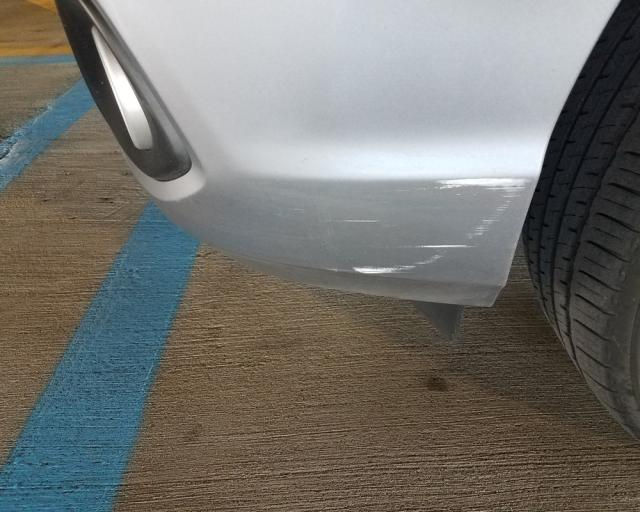scratch: (320, 176, 532, 277)
